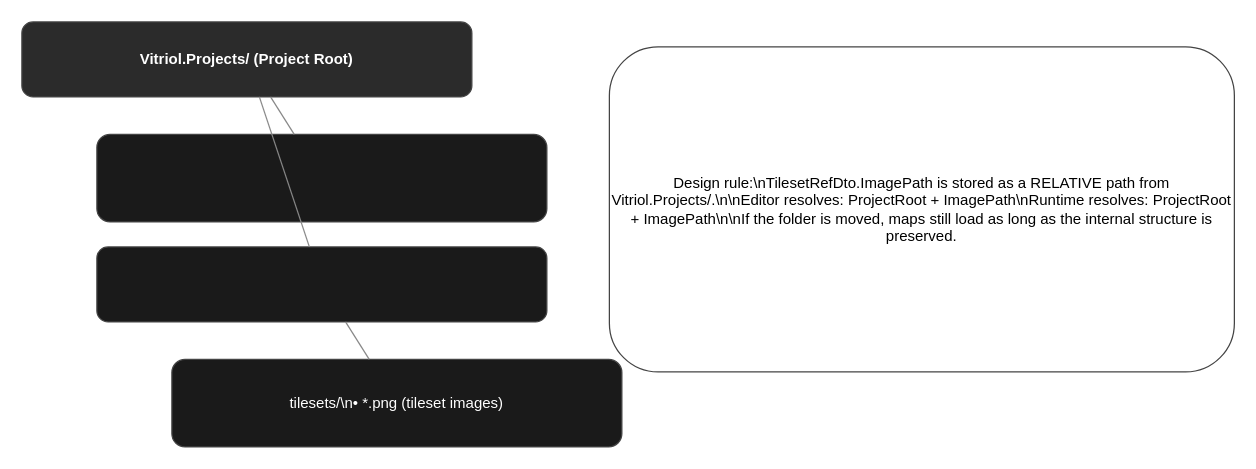
The diagram is 1256 pixels wide and 469 high, and some of its shapes have lost their labels. The shapes that lost their labels are listed below. From the top down, each one's centre as x and y in pixels, then its label:
pixel 321 177: maps/\n• *.vitmap.json (map files)
pixel 321 284: assets/
